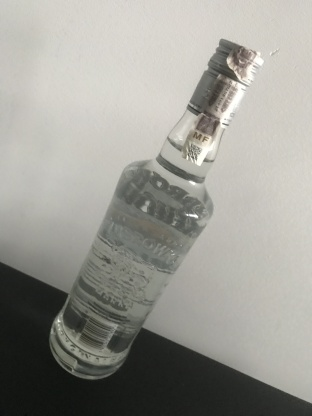nakretka: (184, 36, 265, 129)
